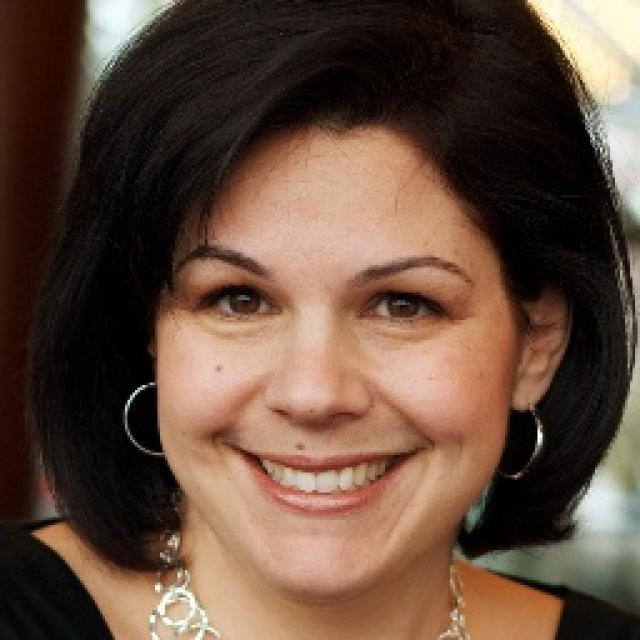earlobe: (512, 258, 576, 415)
